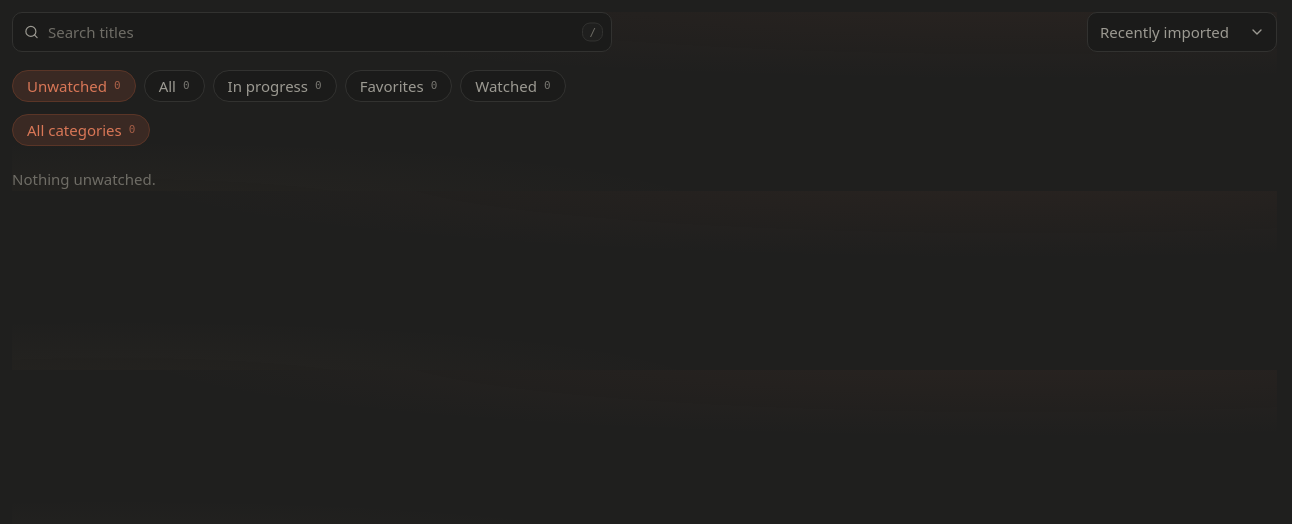
Scenario: Library category chips › reverts the optimistic watched flip when setWatched fails
Click the button "All 0": [174, 86] box [144,70,205,102]
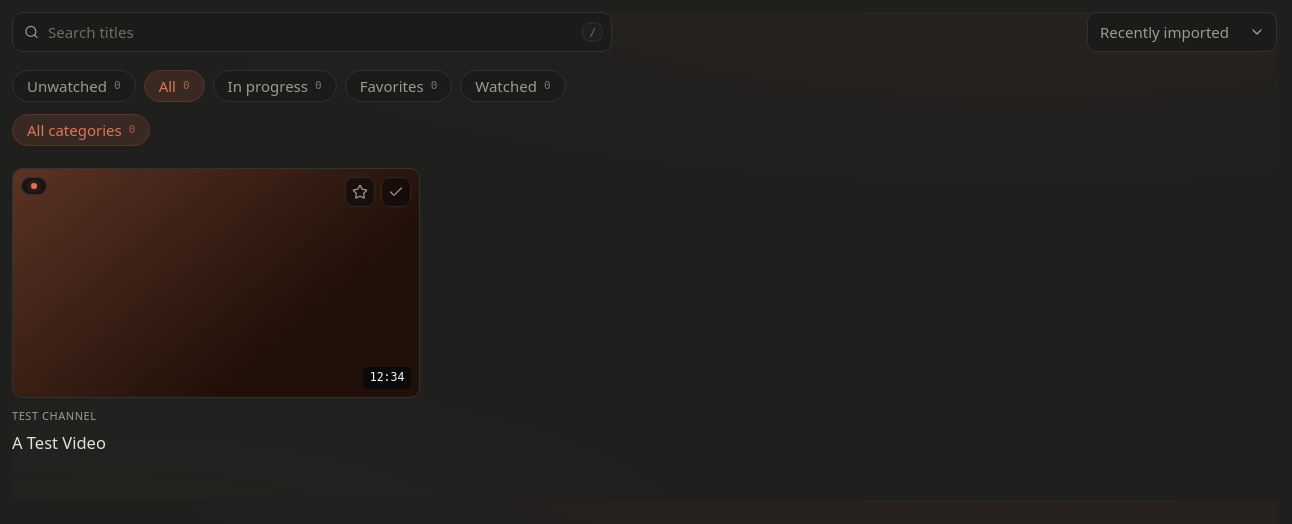
Check: the button "A Test Video" is shown, box [12,431,106,454]
Click the button named "Mark watched": [396, 192] box [381,177,411,207]
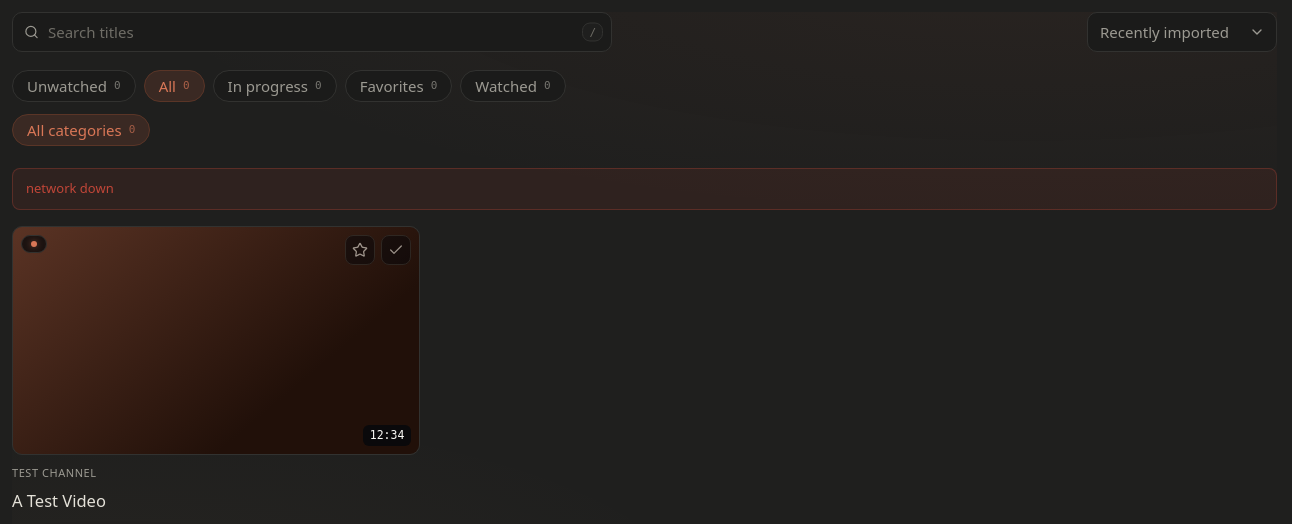
Check: the button named "Mark watched" is shown, box [381,234,411,264]
Check: the text "network down" is shown, box [12,168,1277,210]
